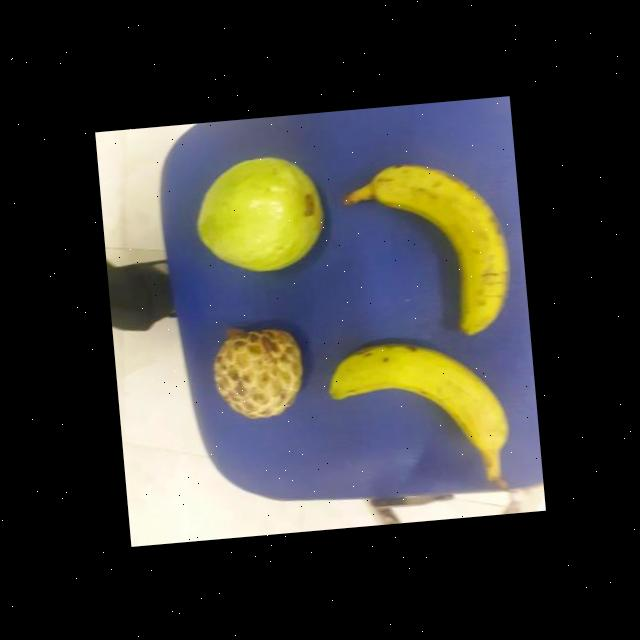Sakya fruit: (210, 319, 308, 420)
banana: (365, 147, 514, 338), (328, 329, 512, 462)
guava: (194, 148, 326, 274), (210, 318, 306, 418)
